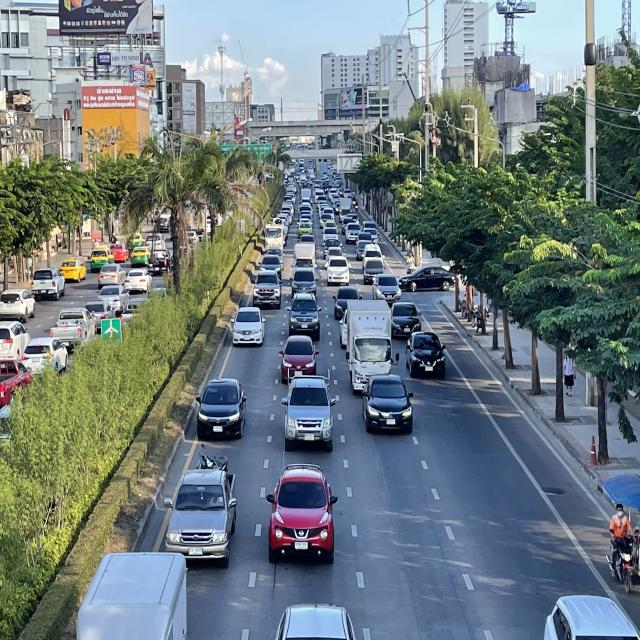bike: (604, 485, 640, 596)
car: (162, 460, 236, 568), (405, 332, 448, 381), (280, 334, 318, 382), (288, 291, 322, 340), (231, 306, 266, 349)
truck: (75, 546, 190, 640), (345, 298, 399, 397), (284, 366, 332, 449)
